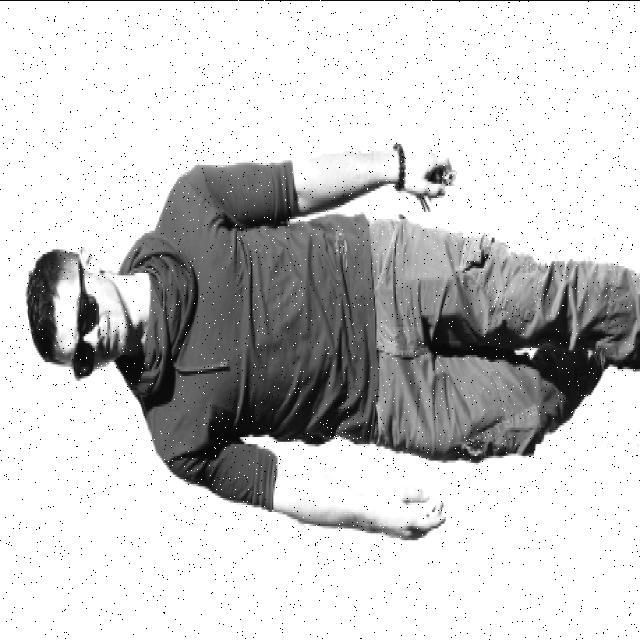face_no_mask: (50, 249, 138, 380)
